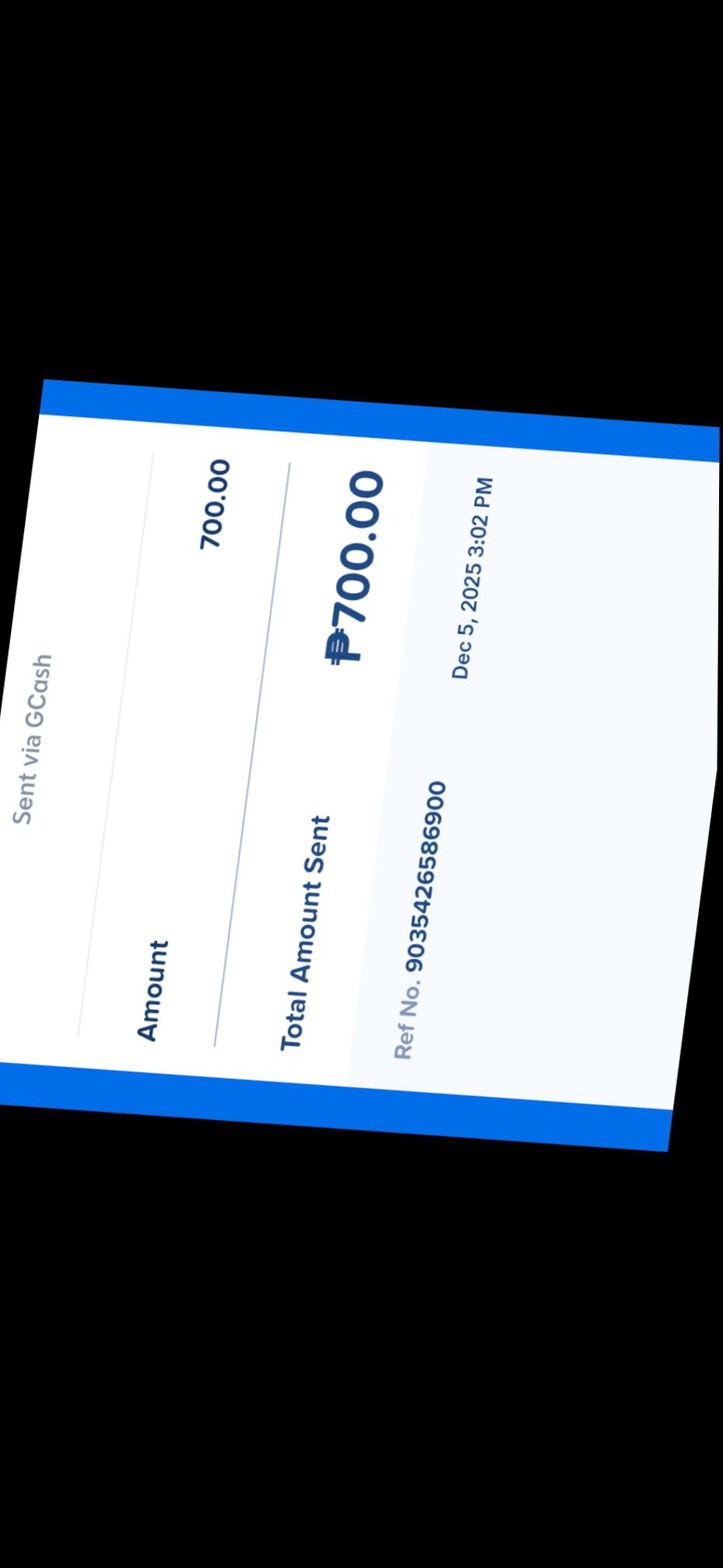Receipt: (0, 379, 720, 1152)
